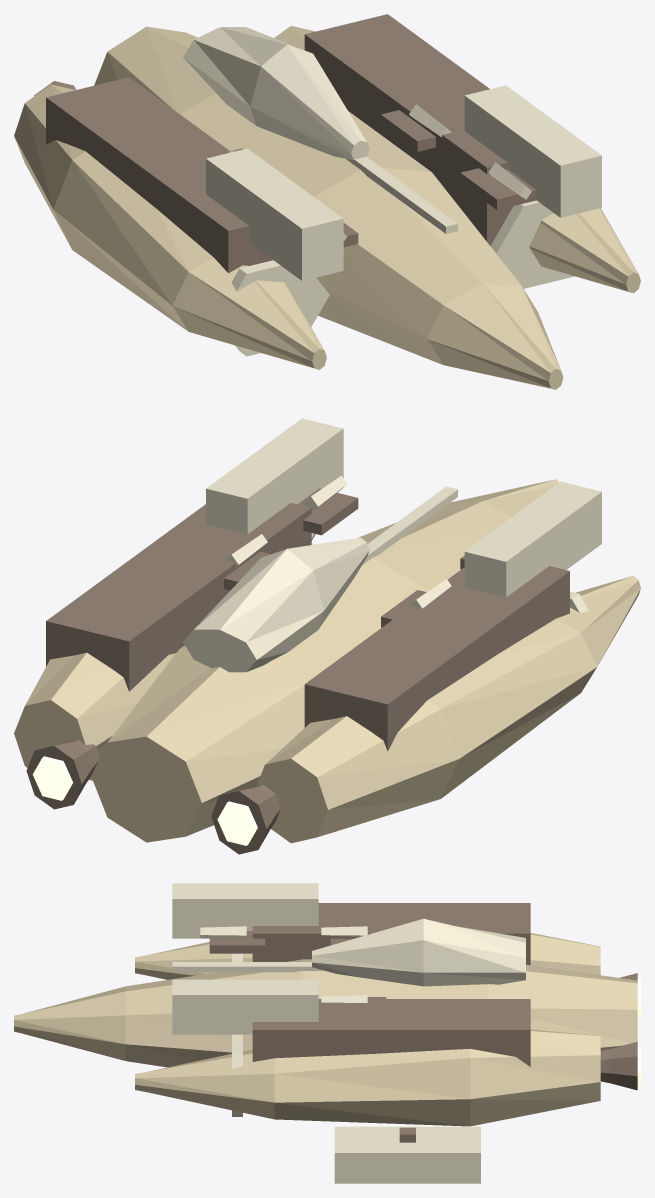
3 renders of one model, top to bottom at view 1: azimuth 30°, elevation 25°; view 2: azimuth 150°, elevation 25°; view 3: azimuth 270°, elevation 25°, orthographic. The views are drawn at different scales.
Size of the model in its own units: 10.29 by 5.58 by 17.15.
